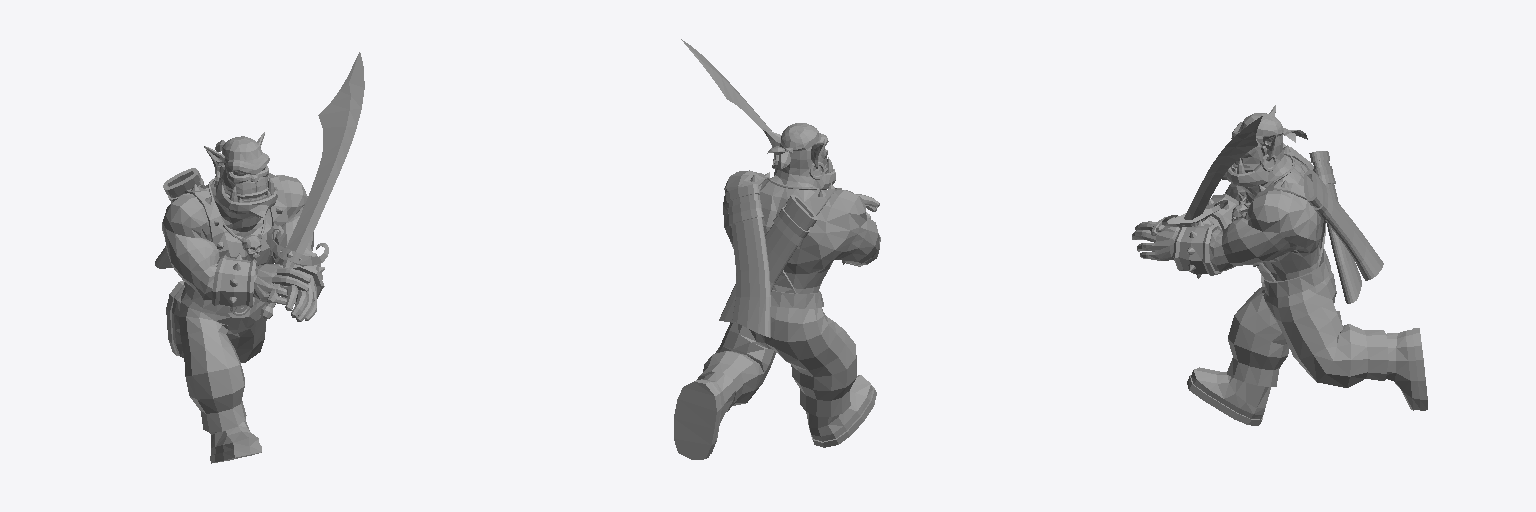
File: sinbad_000008.obj
3 views of the same model, side by side, from view 1: azimuth 30°, elevation 25°; view 2: azimuth 150°, elevation 25°; view 3: azimuth 270°, elevation 25° (orthographic).
Parts seen in each view (by area): view 1: Sinbad, Sword; view 2: Sinbad, Sword; view 3: Sinbad, Sword.
Part boxes in pixels (x1,y1,x2,y2): Sinbad: (155, 132, 324, 463); Sword: (260, 52, 364, 318); Sinbad: (674, 123, 880, 459); Sword: (681, 39, 771, 132); Sinbad: (1132, 105, 1427, 425); Sword: (1162, 116, 1262, 227).
Size of the model in its own units: 5.58 by 10.46 by 7.49.